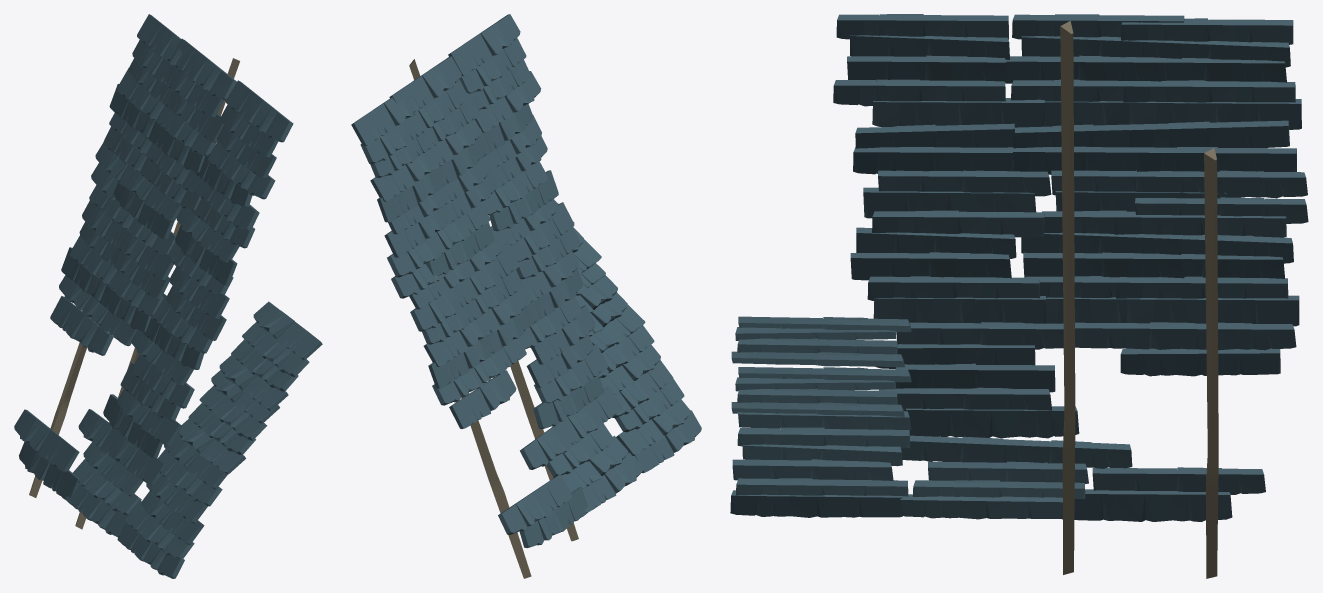
The model's file is TallFrontRoof.fbx.
3 renders of one model, left to right at view 1: azimuth 30°, elevation 25°; view 2: azimuth 150°, elevation 25°; view 3: azimuth 270°, elevation 25°, orthographic. The views are drawn at different scales.
Parts seen in each view (by area): view 1: TallFrontRoof_Merged; view 2: TallFrontRoof_Merged; view 3: TallFrontRoof_Merged.
Part boxes in pixels (bbox=[...]): TallFrontRoof_Merged: bbox=[14, 14, 322, 578]; TallFrontRoof_Merged: bbox=[351, 14, 701, 578]; TallFrontRoof_Merged: bbox=[730, 14, 1308, 578].
Bounding box in the file's own units: 519 × 1195 × 929.
